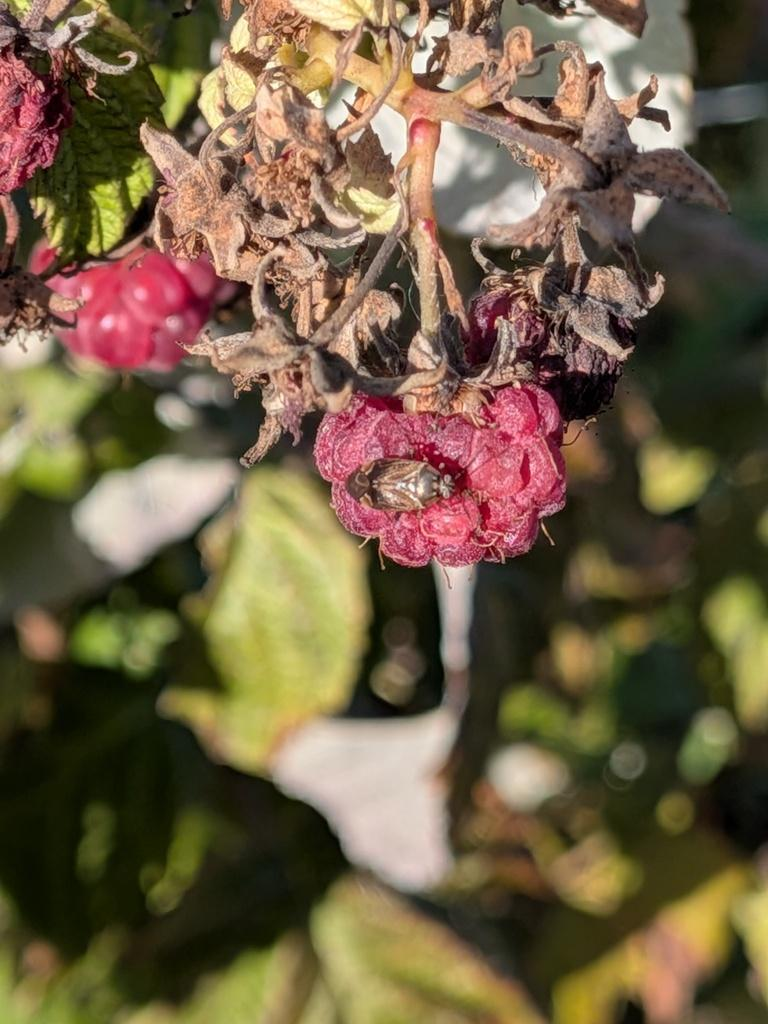plant_bugs: (310, 407, 499, 564)
